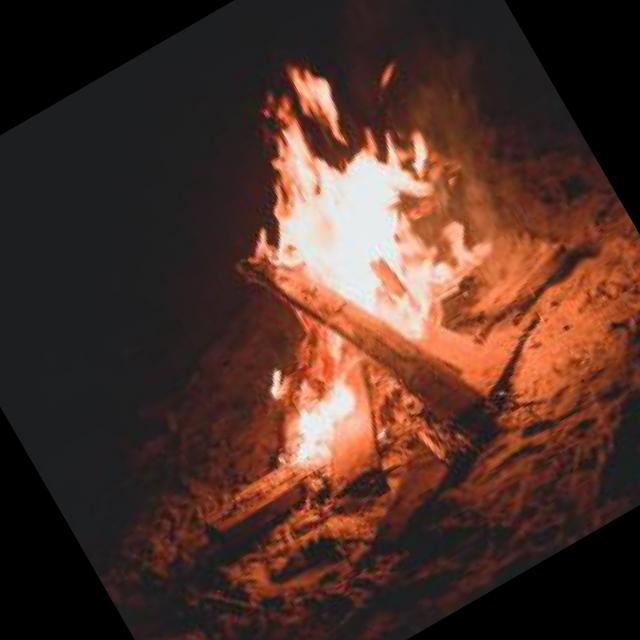fire: (100, 0, 594, 508)
